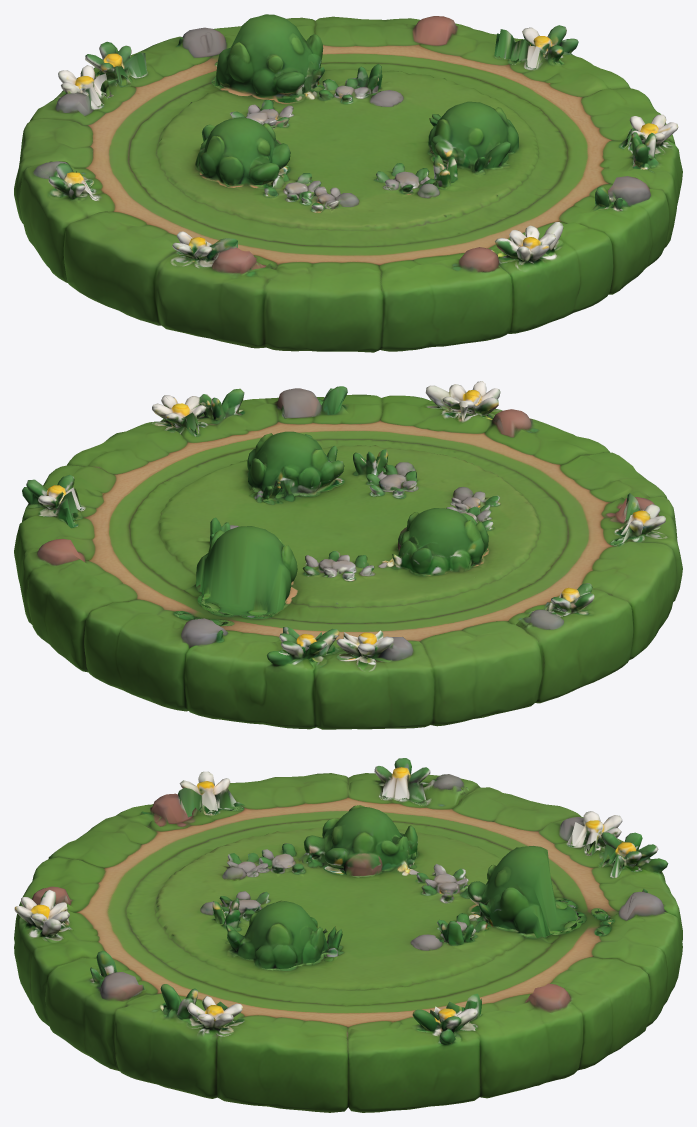
The model's file is meadow-base.glb.
3 views of the same model, one above another, from view 1: azimuth 30°, elevation 25°; view 2: azimuth 150°, elevation 25°; view 3: azimuth 270°, elevation 25° (orthographic).
Visible parts, largest first — view 1: texture_mapping; view 2: texture_mapping; view 3: texture_mapping.
Boxes of the visible parts, x1=… form: texture_mapping: x1=14, y1=14, x2=682, y2=352; texture_mapping: x1=14, y1=381, x2=682, y2=729; texture_mapping: x1=14, y1=758, x2=682, y2=1112.
Size of the model in its own units: 1 by 0.2266 by 0.9995.
Materials: 1 (1 with a texture image).
